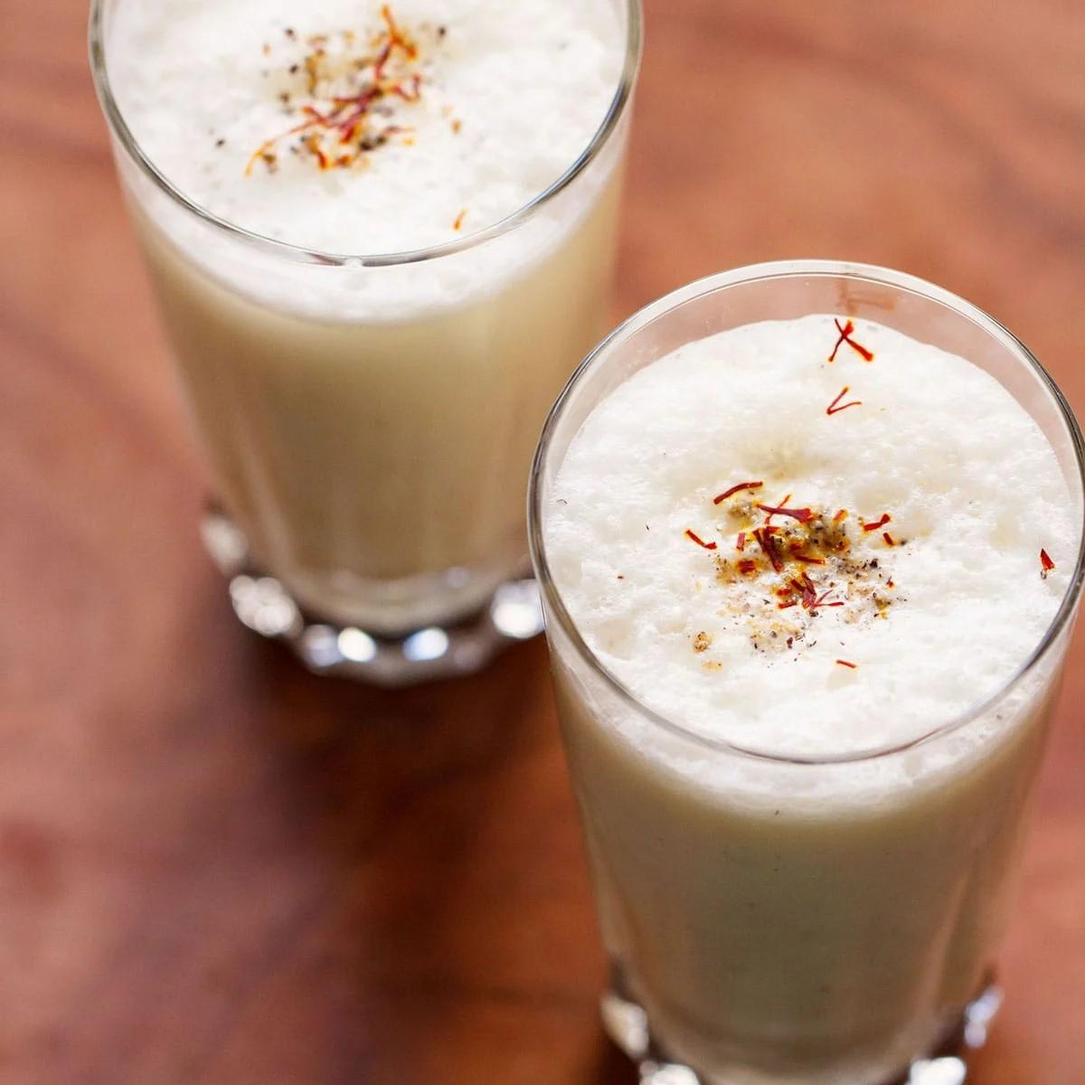Lassi: (546, 314, 1081, 1085), (98, 0, 637, 628)
